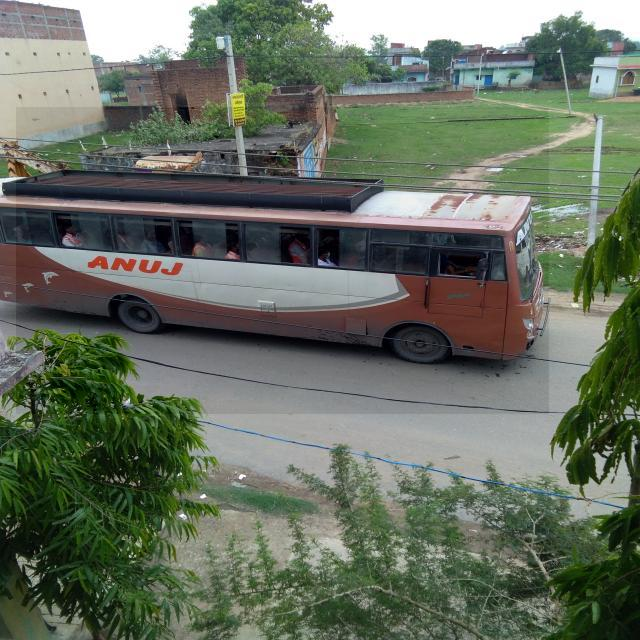Bus: (16, 107, 549, 414)
